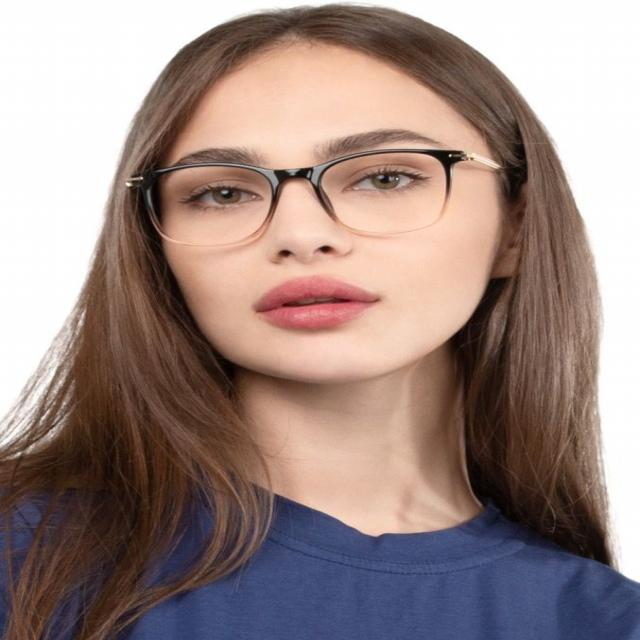Glasses: (121, 142, 511, 252)
